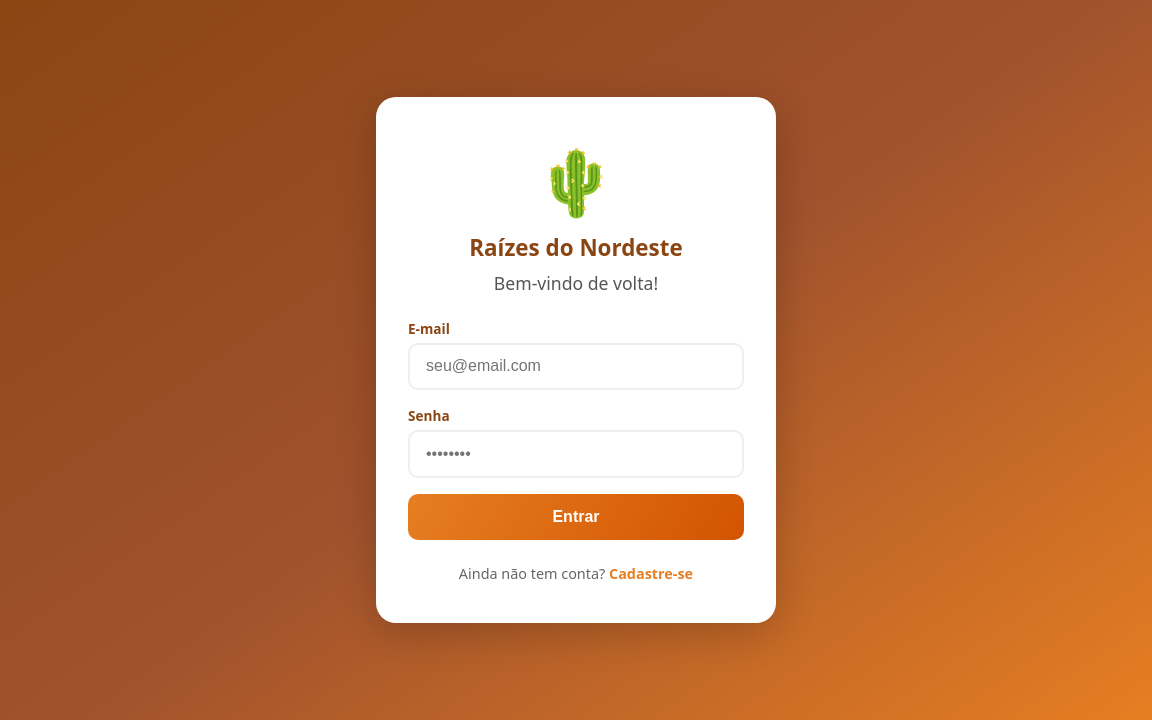
Test: Login › deve exibir mensagem de erro quando login falha
Type "errado@email.com" into the field with id "email" at (576, 366), box [408,342,744,390]
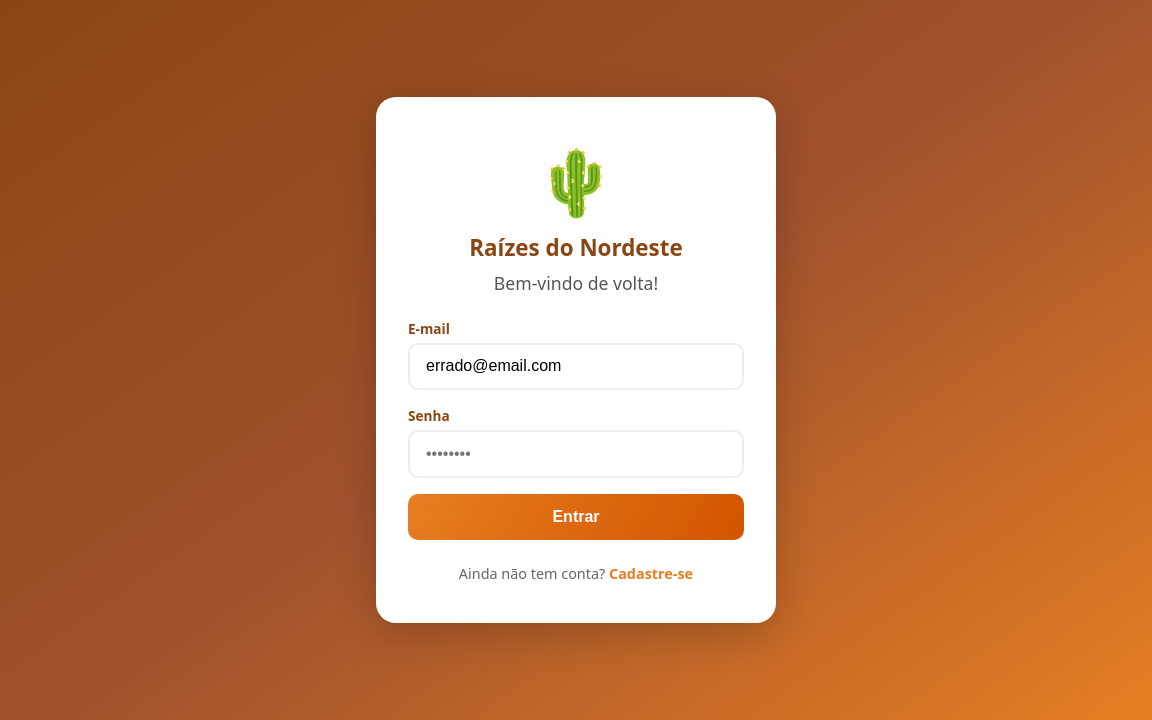
Type "senhaerrada" into the password field with id "senha" at (576, 454), box [408,430,744,478]
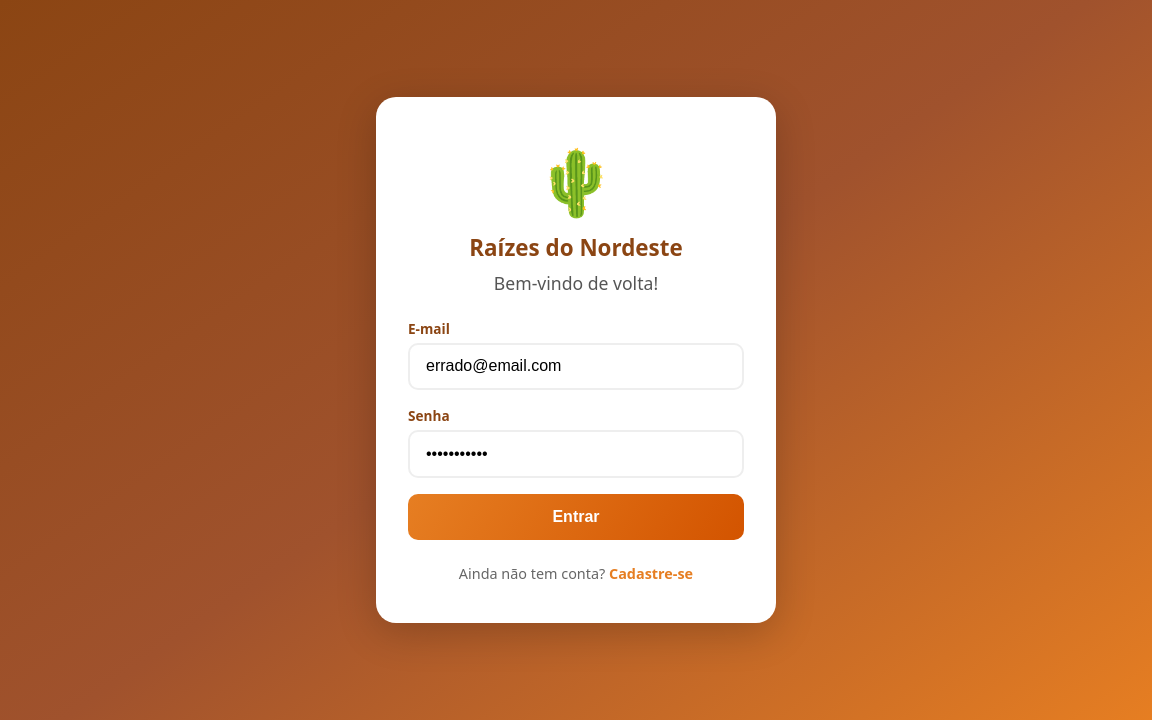
Submit the form, box [408,319,744,540]
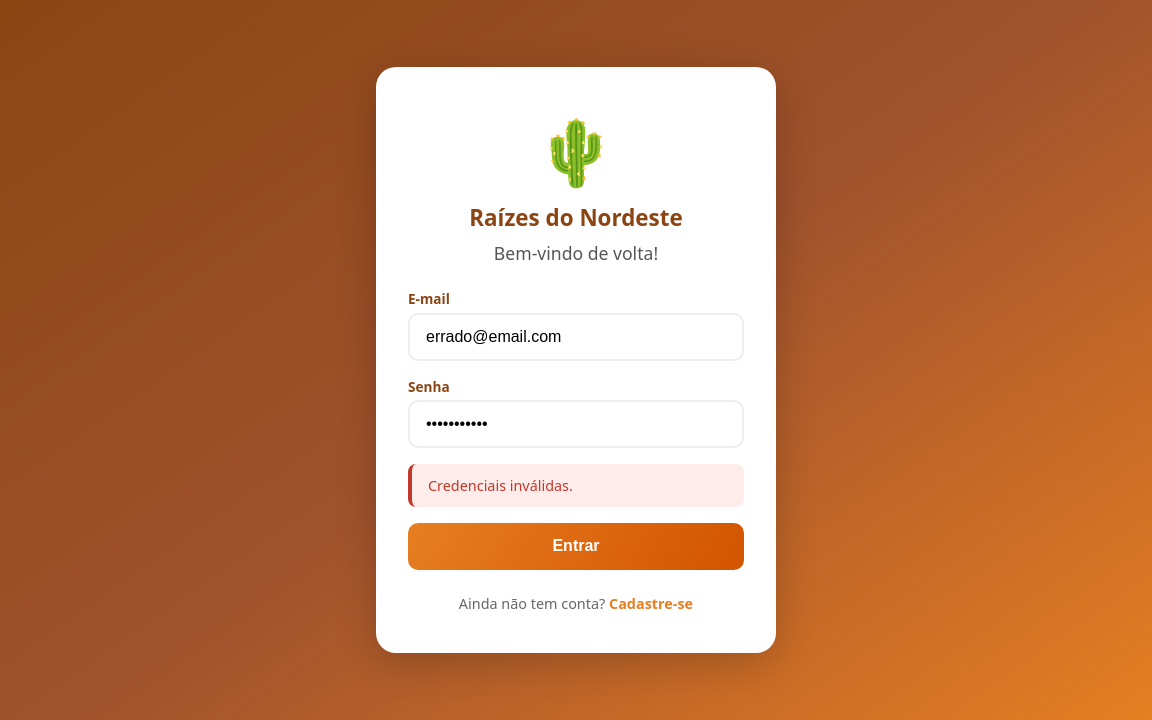
Result: the message "Credenciais inválidas." is shown at [408,464,744,507]
Result: the message with class "erro-mensagem" reads "Credenciais inválidas." at [428,476,573,495]
